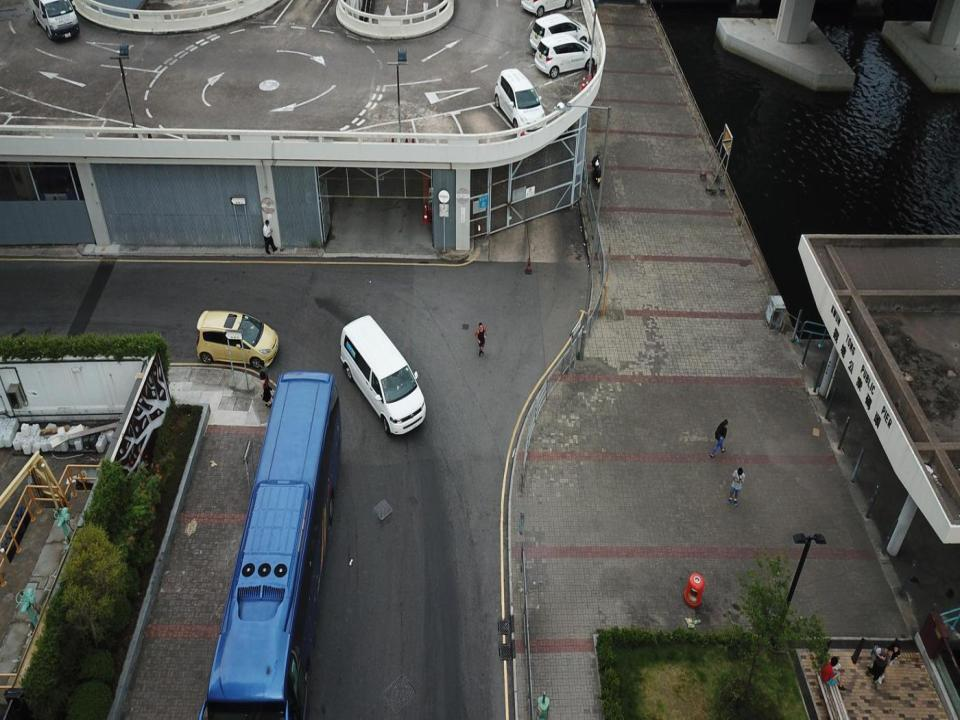bus: (200, 369, 342, 719)
van: (338, 314, 427, 439), (193, 310, 279, 367), (493, 66, 545, 132), (532, 34, 599, 77), (529, 12, 590, 50), (30, 0, 80, 46), (518, 0, 581, 17)
